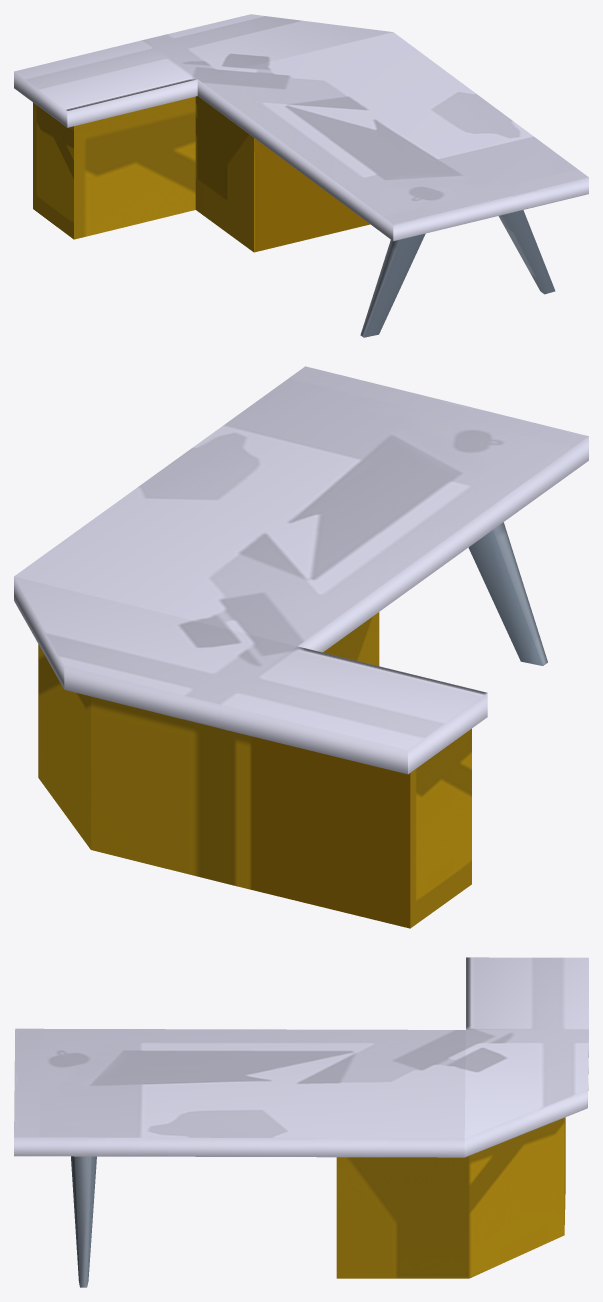
File: Tx_props_table_11.fbx
The picture shows the model from 3 angles, top to bottom: view 1: azimuth 30°, elevation 25°; view 2: azimuth 150°, elevation 25°; view 3: azimuth 270°, elevation 25°; orthographic projection. The views are drawn at different scales.
Visible parts, largest first — view 1: Tx_props_table_8; view 2: Tx_props_table_8; view 3: Tx_props_table_8.
Part boxes in pixels (<box>): Tx_props_table_8: <box>14,14,588,337</box>; Tx_props_table_8: <box>14,366,588,928</box>; Tx_props_table_8: <box>14,957,588,1287</box>.
Size of the model in its own units: 8.25 by 3.25 by 11.08.
